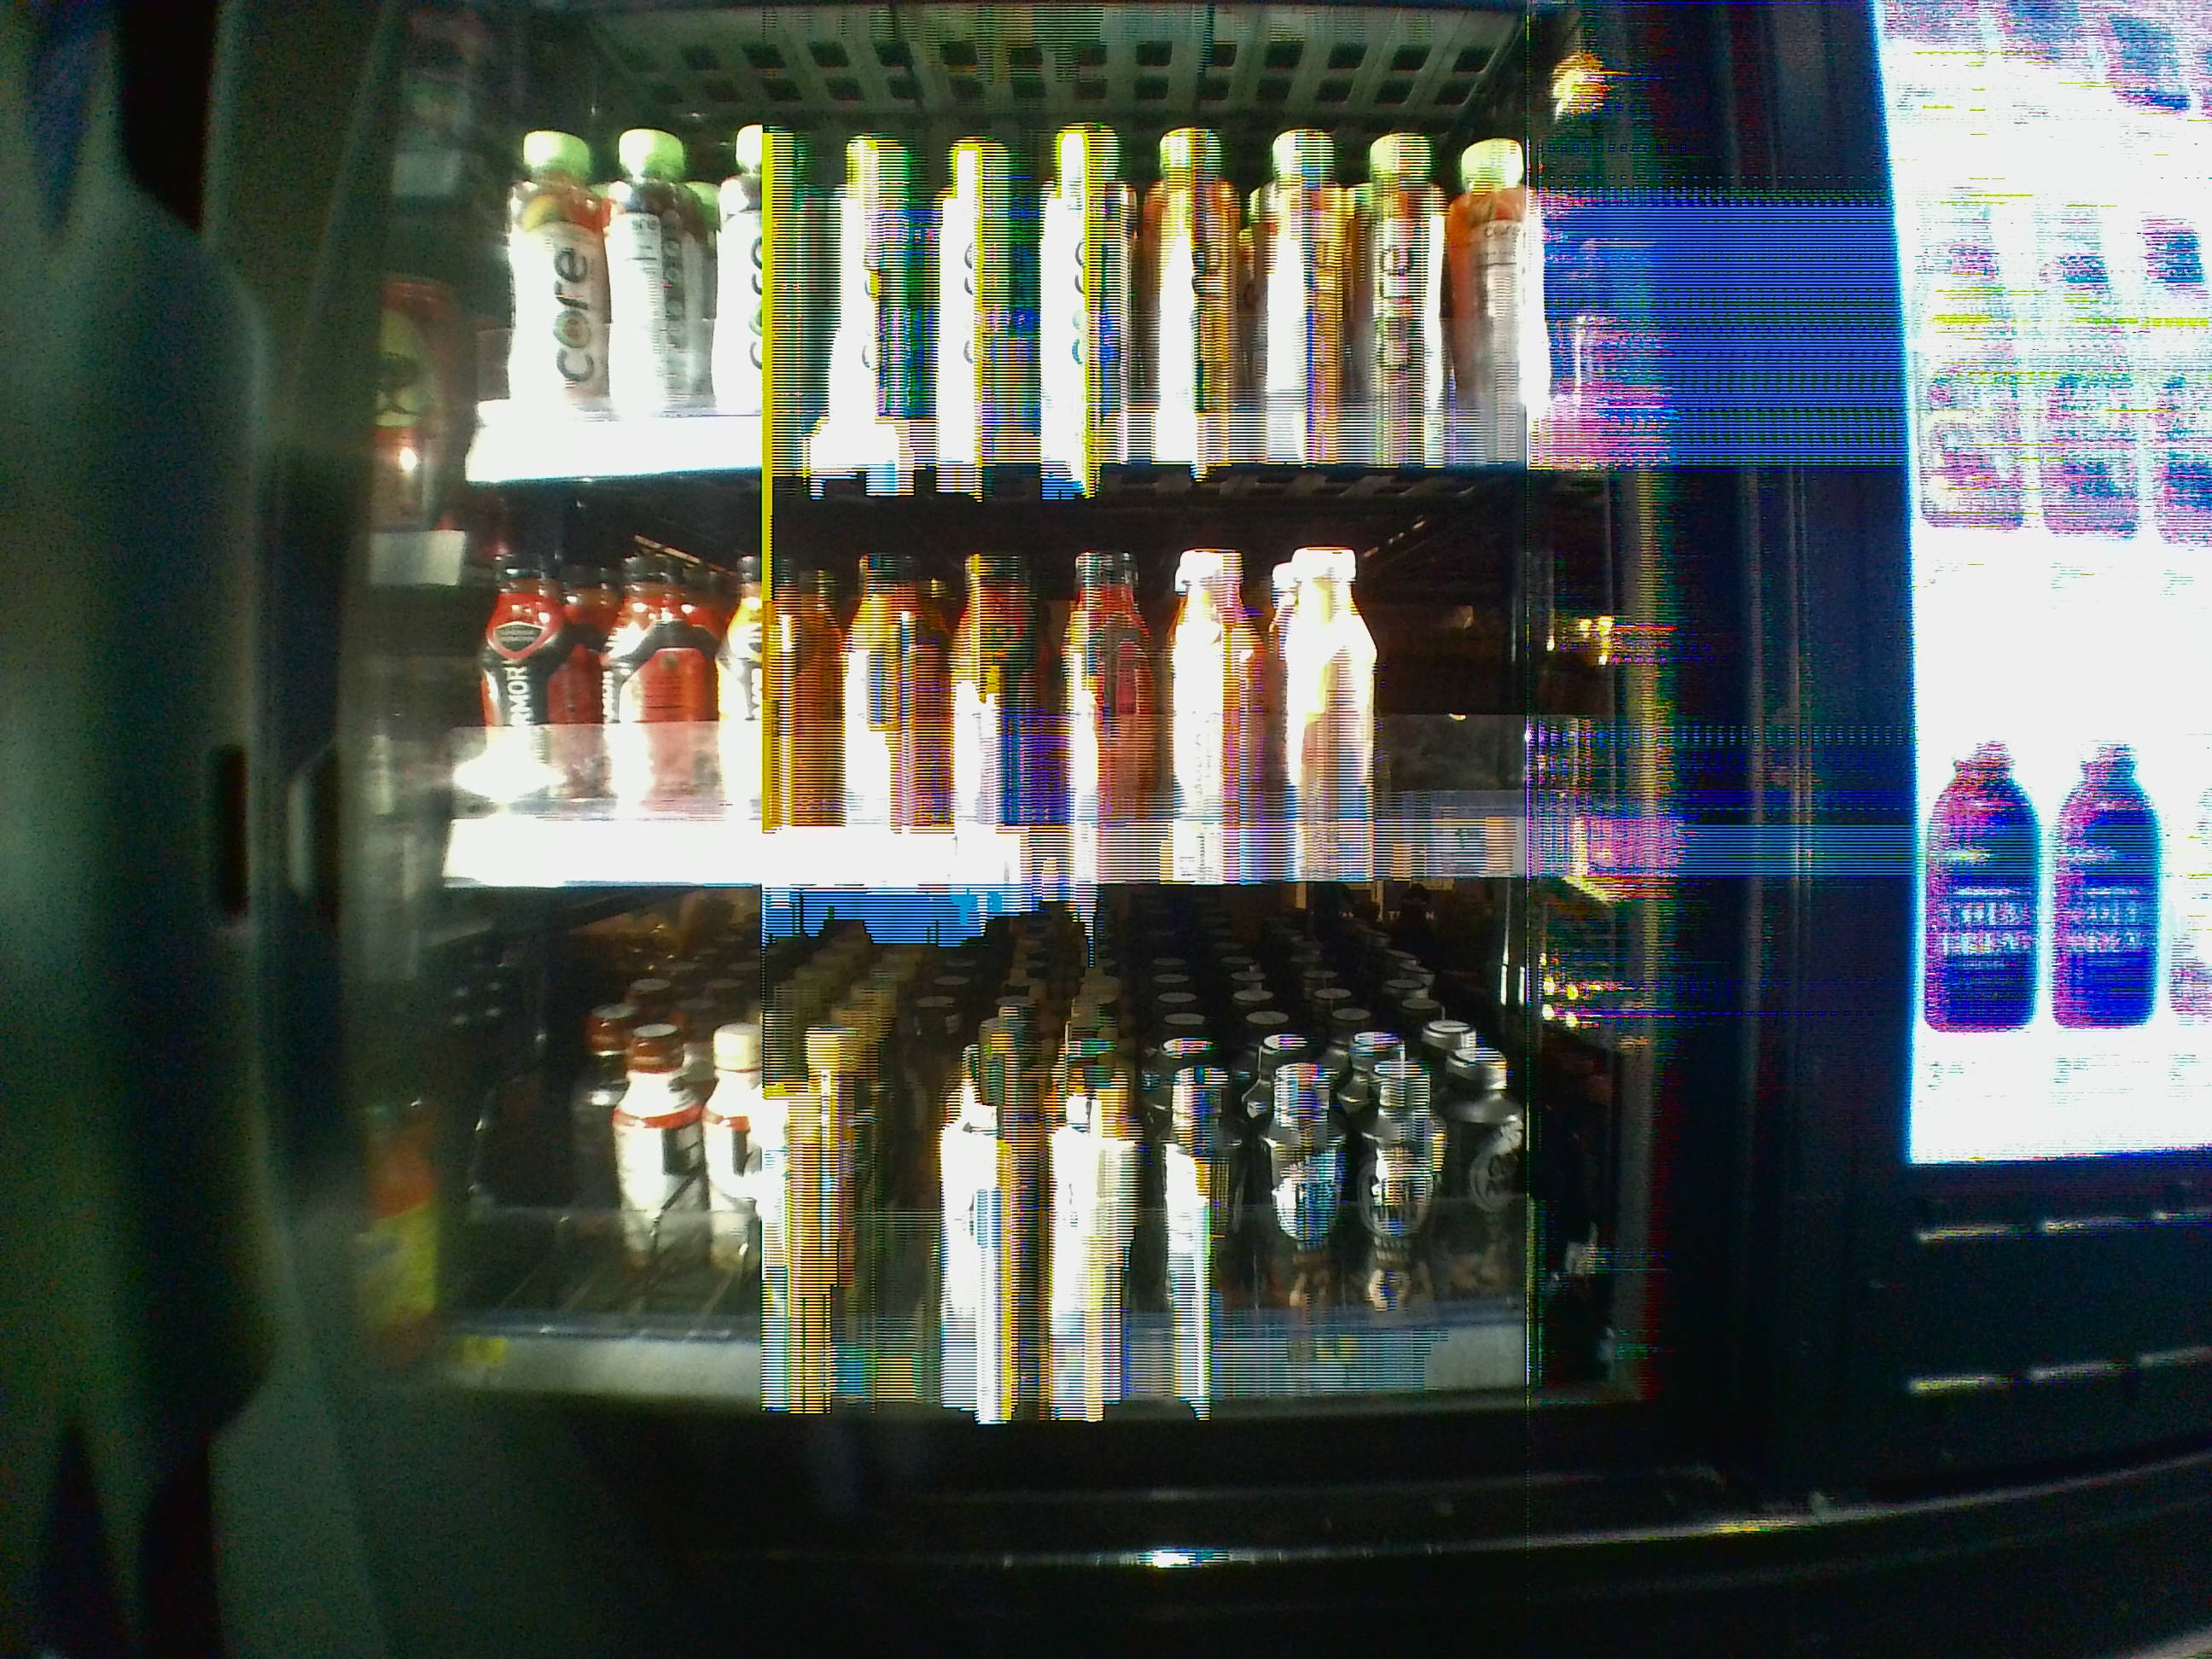shelf: (324, 885, 1683, 1417), (343, 467, 1688, 882)
